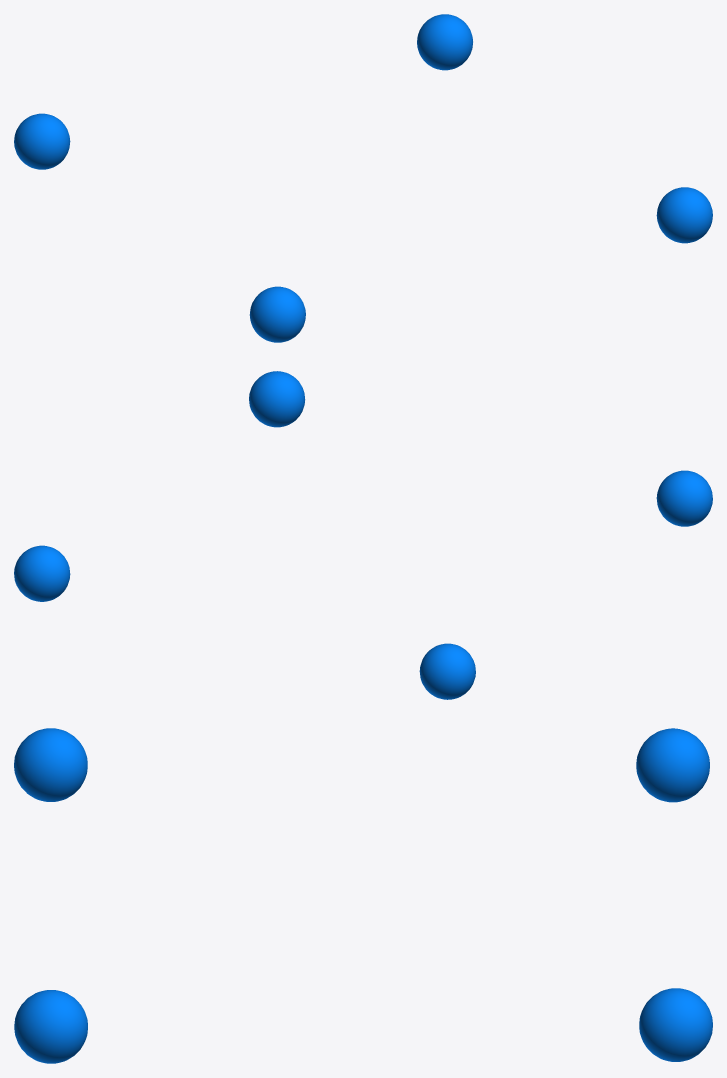
3 renders of one model, top to bottom at view 1: azimuth 30°, elevation 25°; view 2: azimuth 150°, elevation 25°; view 3: azimuth 270°, elevation 25°, orthographic. The views are drawn at different scales.
Parts seen in each view (by area): view 1: Sphere047; view 2: Sphere047; view 3: Sphere047.
Boxes of the visible parts, bbox=[...] form: Sphere047: bbox=[14, 14, 712, 342]; Sphere047: bbox=[14, 371, 712, 699]; Sphere047: bbox=[14, 728, 712, 1063].
Size of the model in its own units: 76.84 by 8.22 by 77.51.
